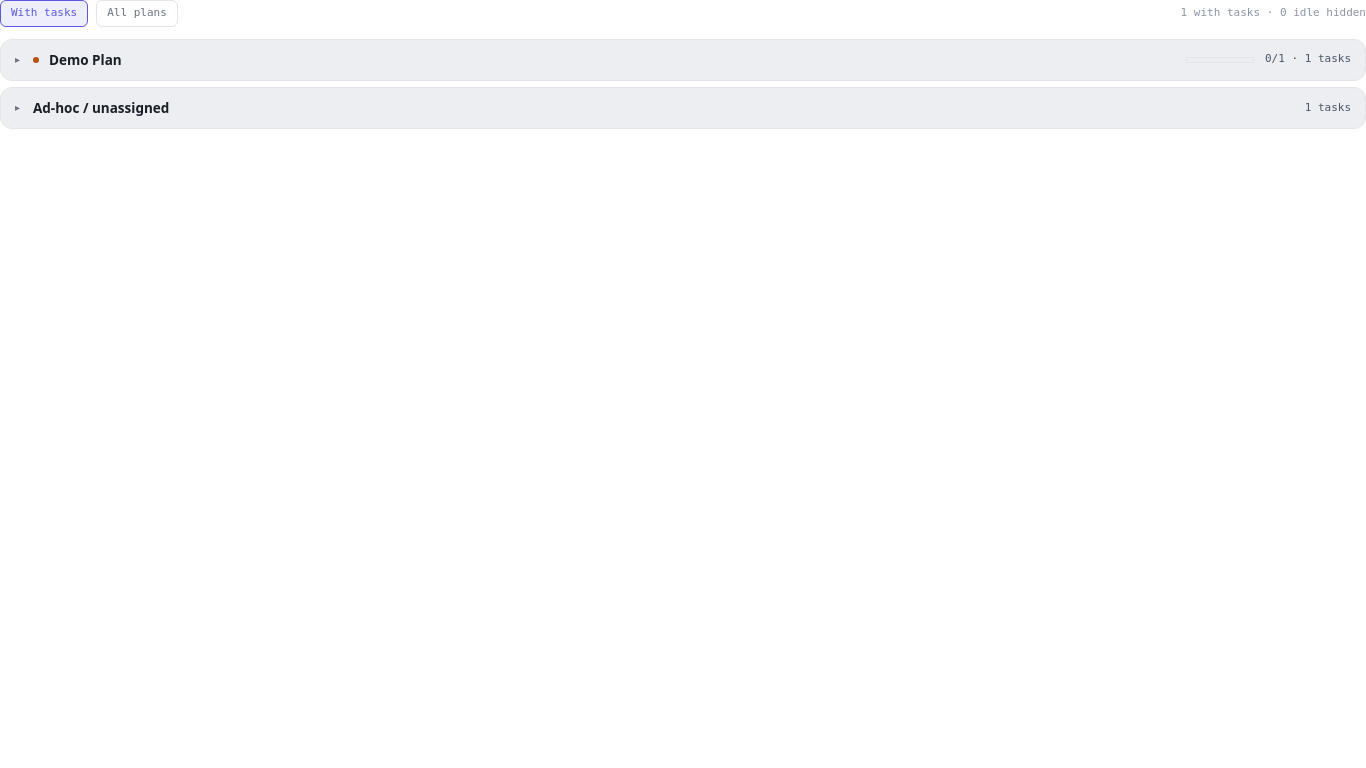
Test: clicking a task opens the shared TaskDetailDrawer
This screenshot has width=1366, height=768.
Click the text "Demo Plan" at point(85, 60), box [49,50,122,68]
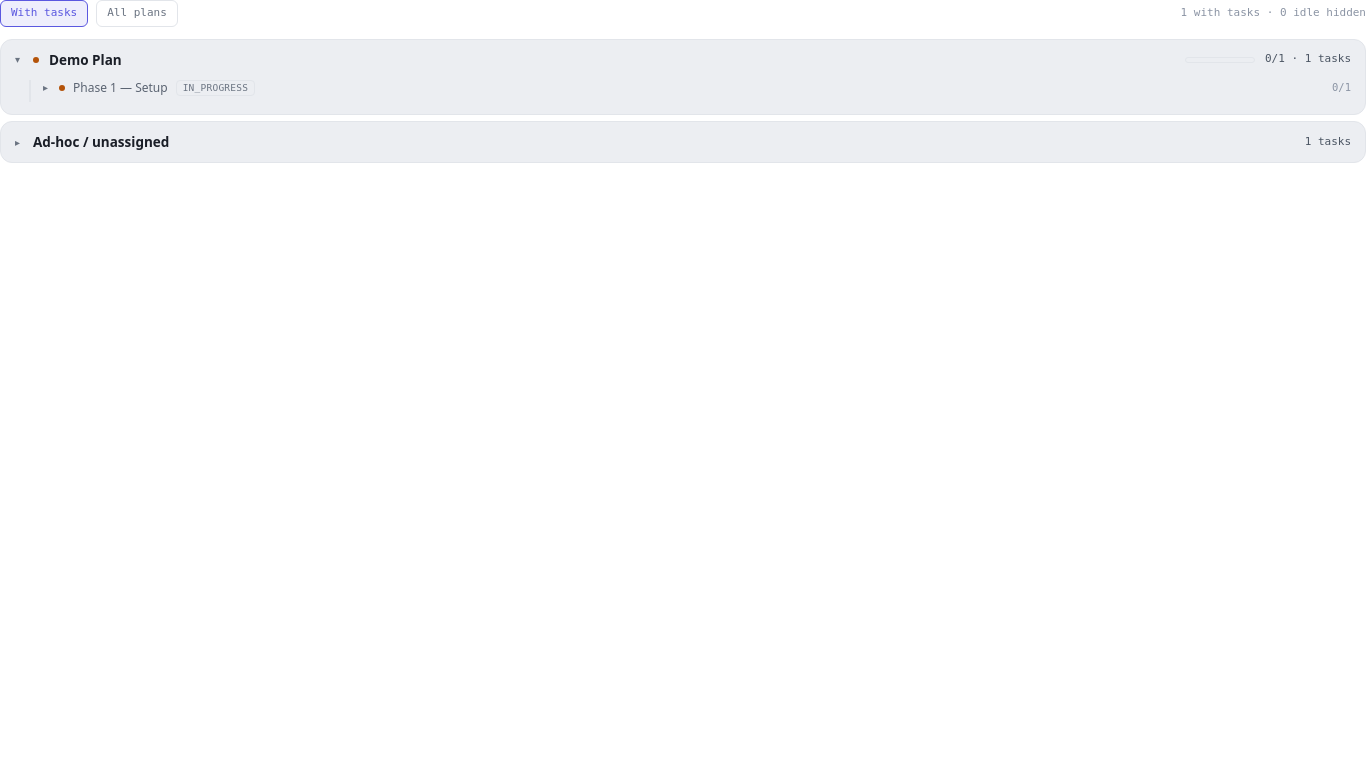
Click the text "Phase 1 — Setup" at point(120, 88), box [73,80,168,96]
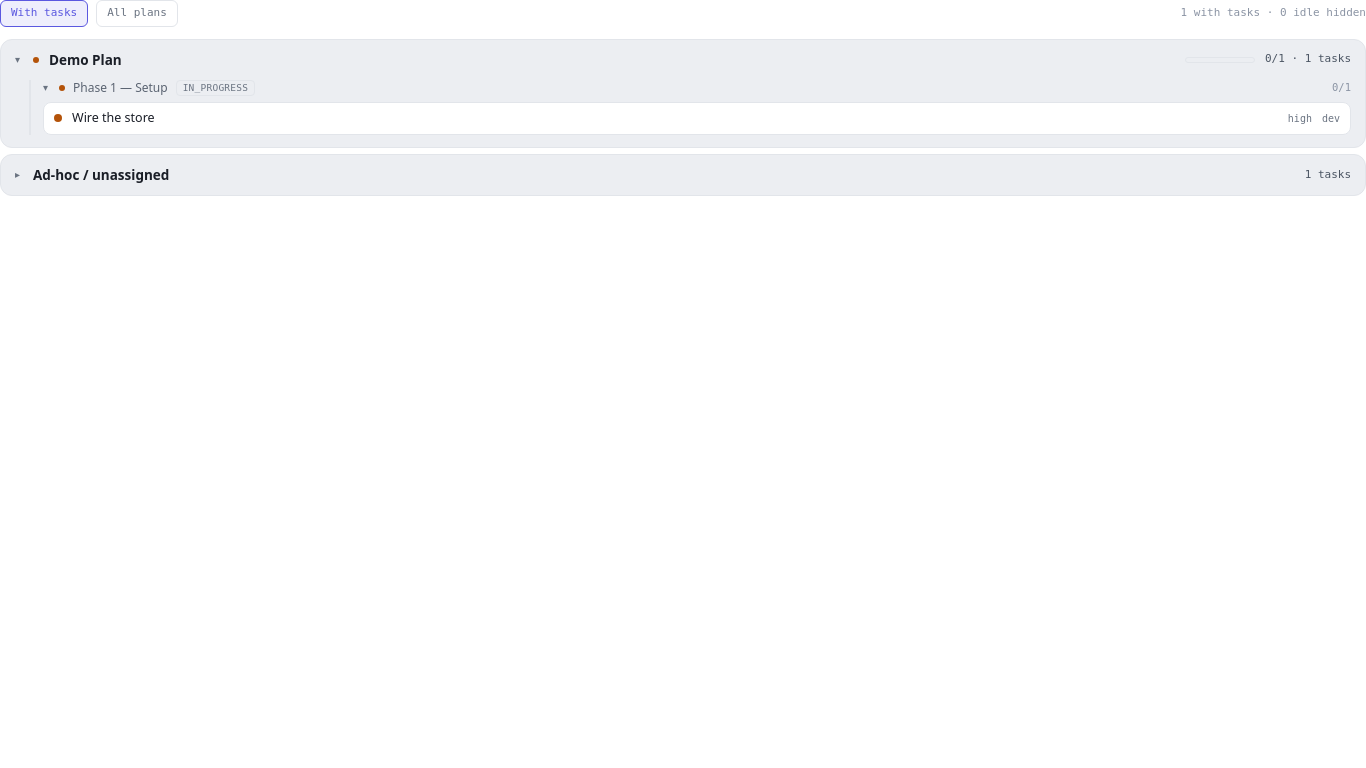
Click the text "Wire the store" at point(113, 118), box [72,109,155,126]
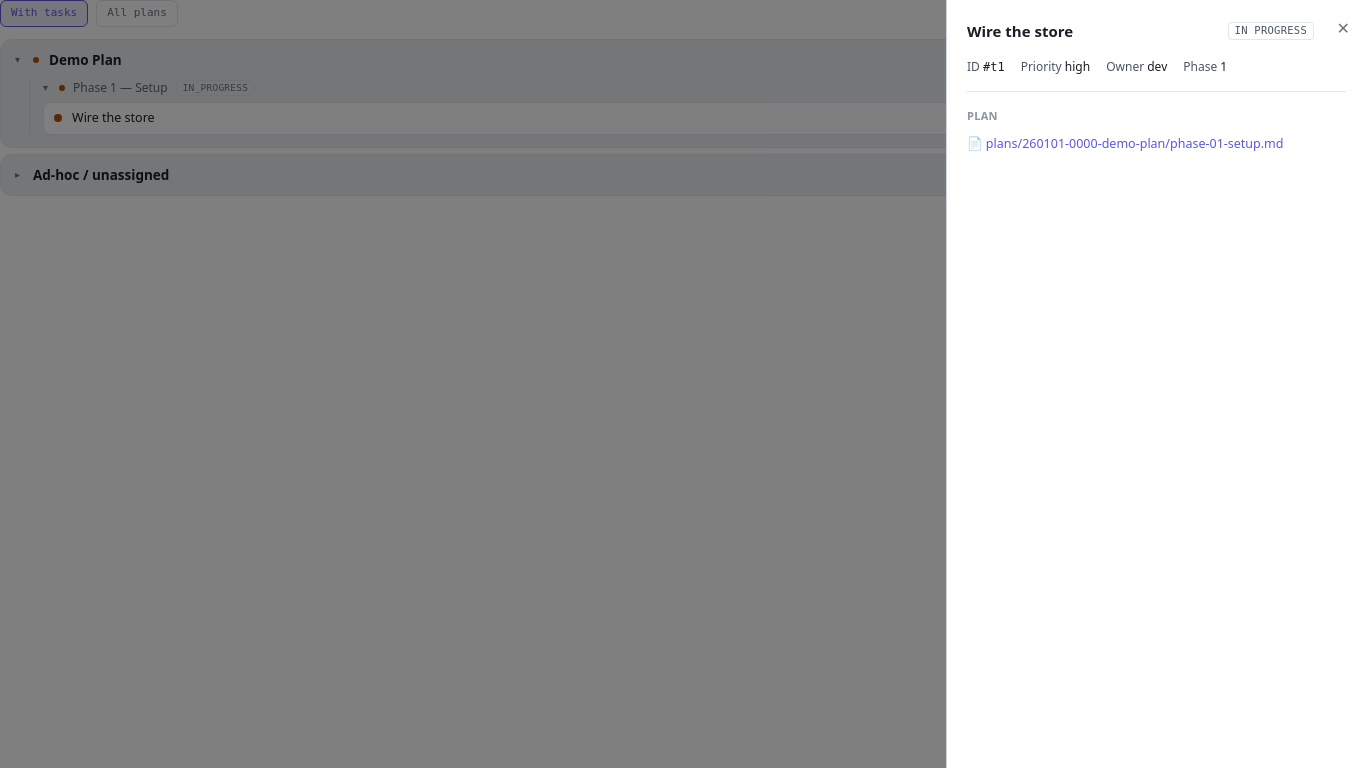
Check: the heading "Wire the store" is shown, box [967,21,1073,41]
Check: the text "dev" is shown, box [1147,58,1167,74]
